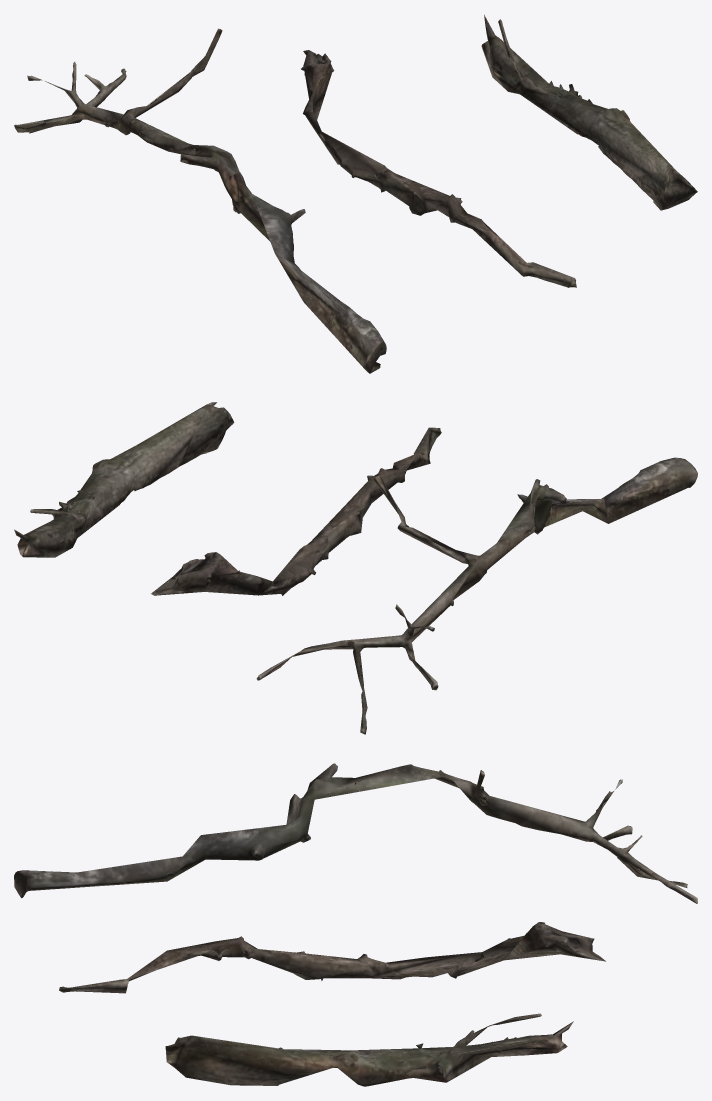
The model's file is dry_branches_medium_01_lod1.glb.
3 views of the same model, one above another, from view 1: azimuth 30°, elevation 25°; view 2: azimuth 150°, elevation 25°; view 3: azimuth 270°, elevation 25° (orthographic). The views are drawn at different scales.
Parts seen in each view (by area): view 1: dry_branches_medium_01_a, dry_branches_medium_01_c, dry_branches_medium_01_b; view 2: dry_branches_medium_01_a, dry_branches_medium_01_c, dry_branches_medium_01_b; view 3: dry_branches_medium_01_a, dry_branches_medium_01_c, dry_branches_medium_01_b.
Boxes of the visible parts, x1,y1,x2,y2 form: dry_branches_medium_01_a: (14,28,386,373); dry_branches_medium_01_c: (481,14,697,210); dry_branches_medium_01_b: (301,50,576,287); dry_branches_medium_01_a: (256,457,697,734); dry_branches_medium_01_c: (14,402,234,557); dry_branches_medium_01_b: (151,427,441,595); dry_branches_medium_01_a: (14,763,697,903); dry_branches_medium_01_c: (165,1013,573,1086); dry_branches_medium_01_b: (59,922,606,993).
Bounding box in the file's own units: 1.05 × 0.34 × 1.3.
1 material, 1 textured.
